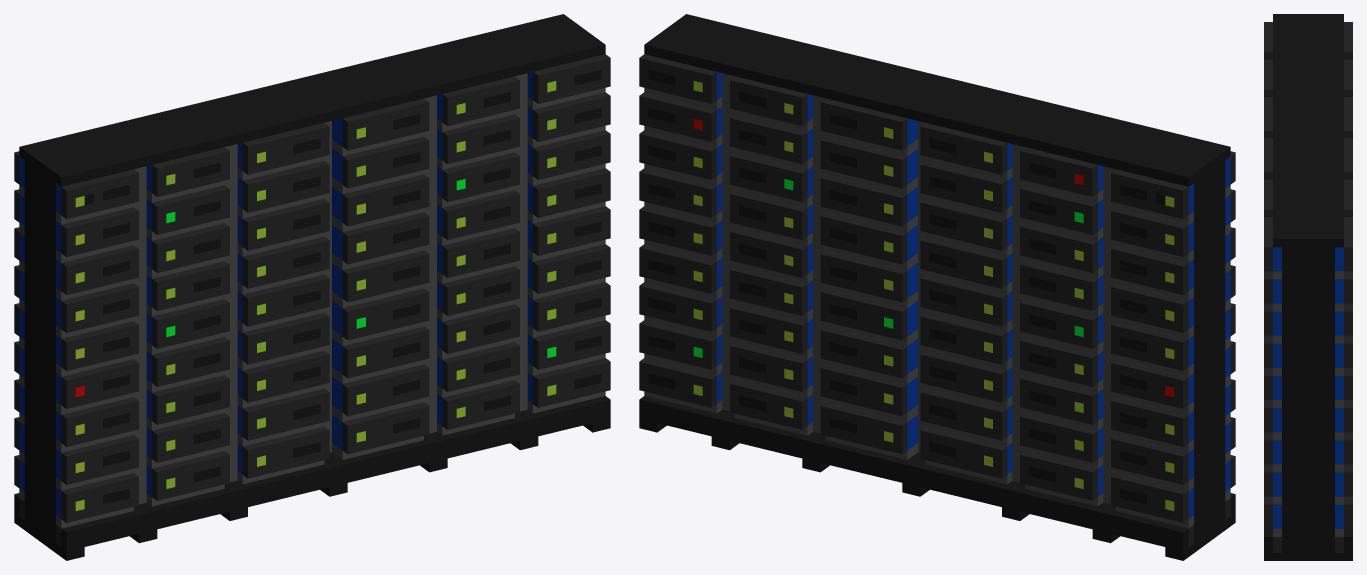
The model's file is Server Bays.obj.
3 views of the same model, side by side, from view 1: azimuth 30°, elevation 25°; view 2: azimuth 150°, elevation 25°; view 3: azimuth 270°, elevation 25° (orthographic). The views are drawn at different scales.
Bounding box in the file's own units: 60 × 40 × 10.
Materials: 1 (1 with a texture image).
